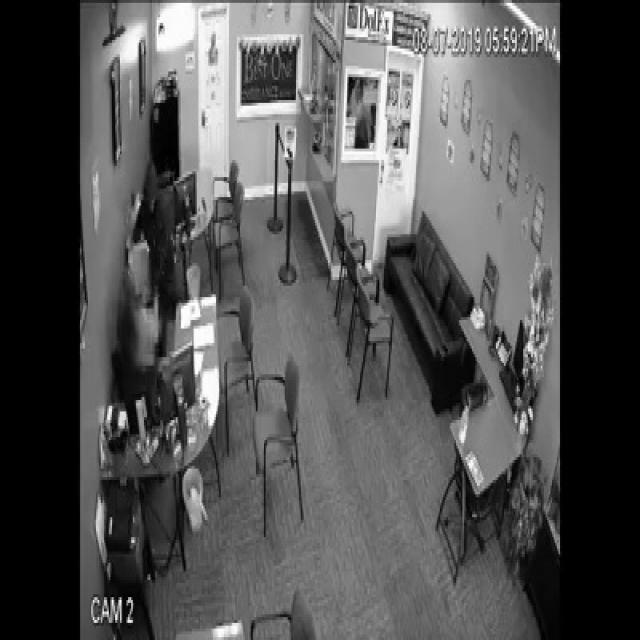weapon: (122, 229, 131, 244)
